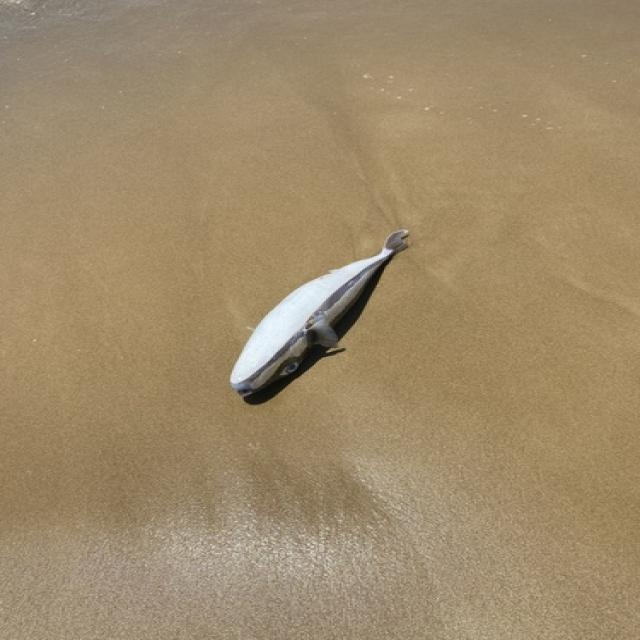Balik: (231, 230, 407, 396)
